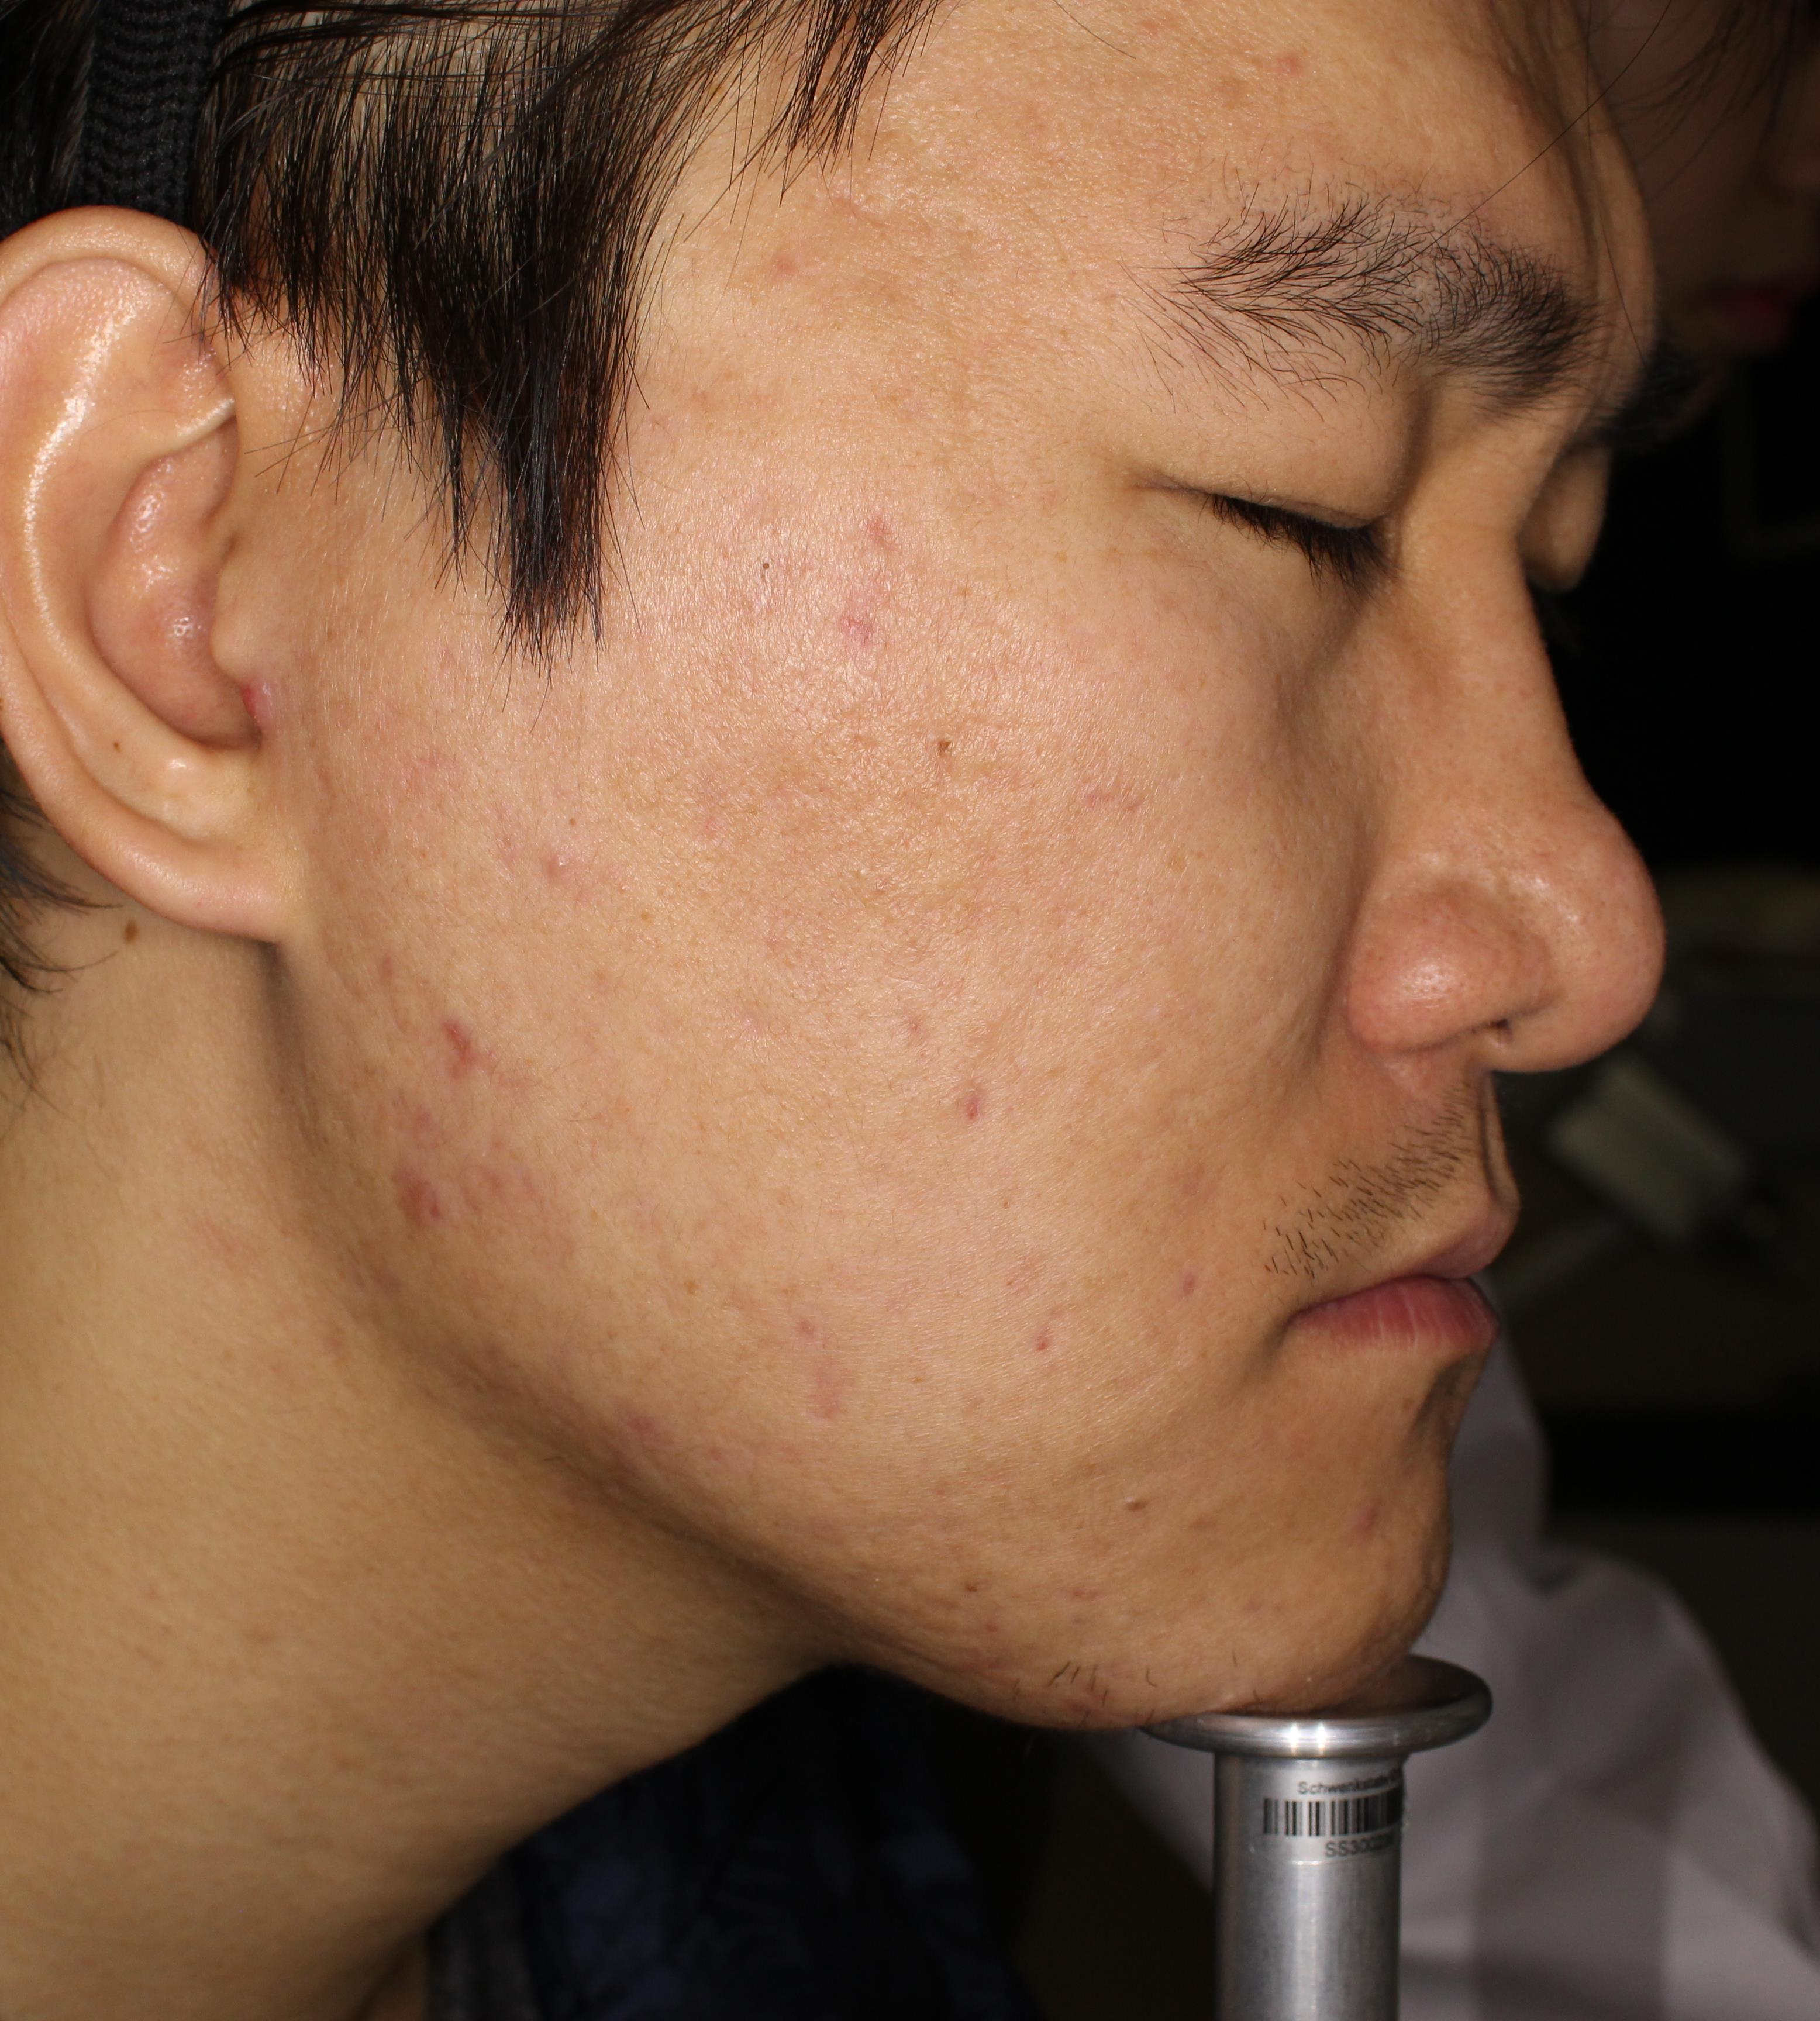fore: (418, 1008, 522, 1092), (392, 1159, 481, 1248)
